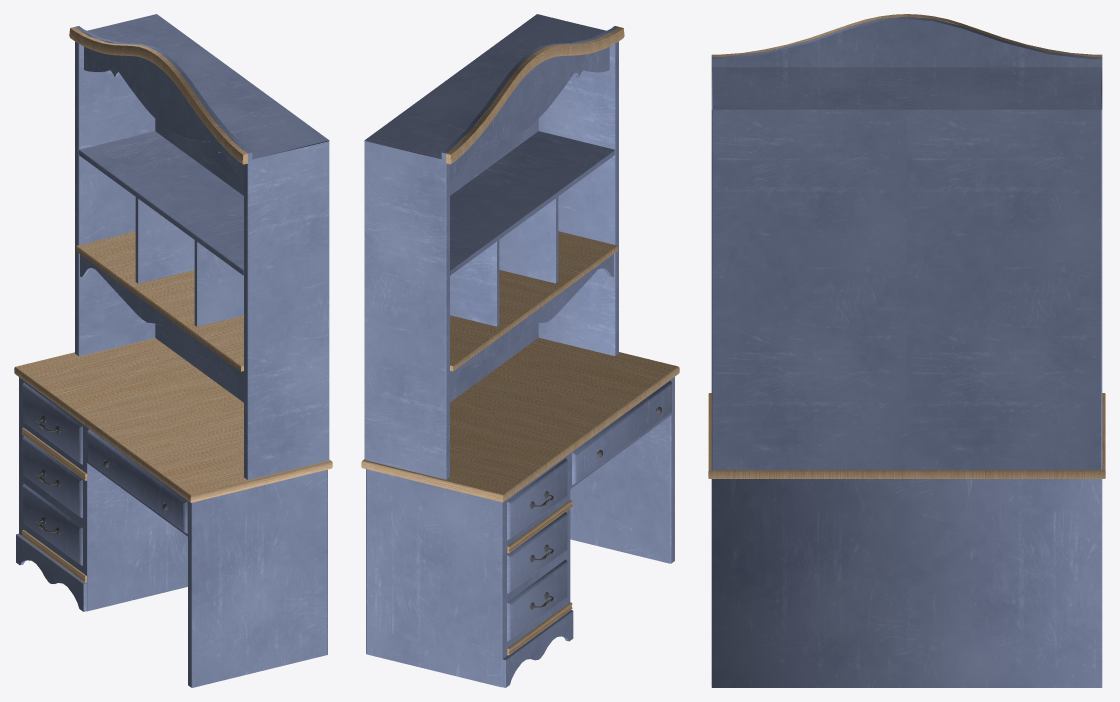
Rendered from 5_material31_scaffaleScrivania.fbx.
3 renders of one model, left to right at view 1: azimuth 30°, elevation 25°; view 2: azimuth 150°, elevation 25°; view 3: azimuth 270°, elevation 25°, orthographic. The views are drawn at different scales.
Parts seen in each view (by area): view 1: 5_material31_1_0_0.002_scaffaleScrivania; view 2: 5_material31_1_0_0.002_scaffaleScrivania; view 3: 5_material31_1_0_0.002_scaffaleScrivania.
Boxes of the visible parts, <box> form: 5_material31_1_0_0.002_scaffaleScrivania: <box>14,14,332,687</box>; 5_material31_1_0_0.002_scaffaleScrivania: <box>361,14,679,687</box>; 5_material31_1_0_0.002_scaffaleScrivania: <box>708,14,1105,687</box>.
Bounding box in the file's own units: 392 × 1372 × 788.
